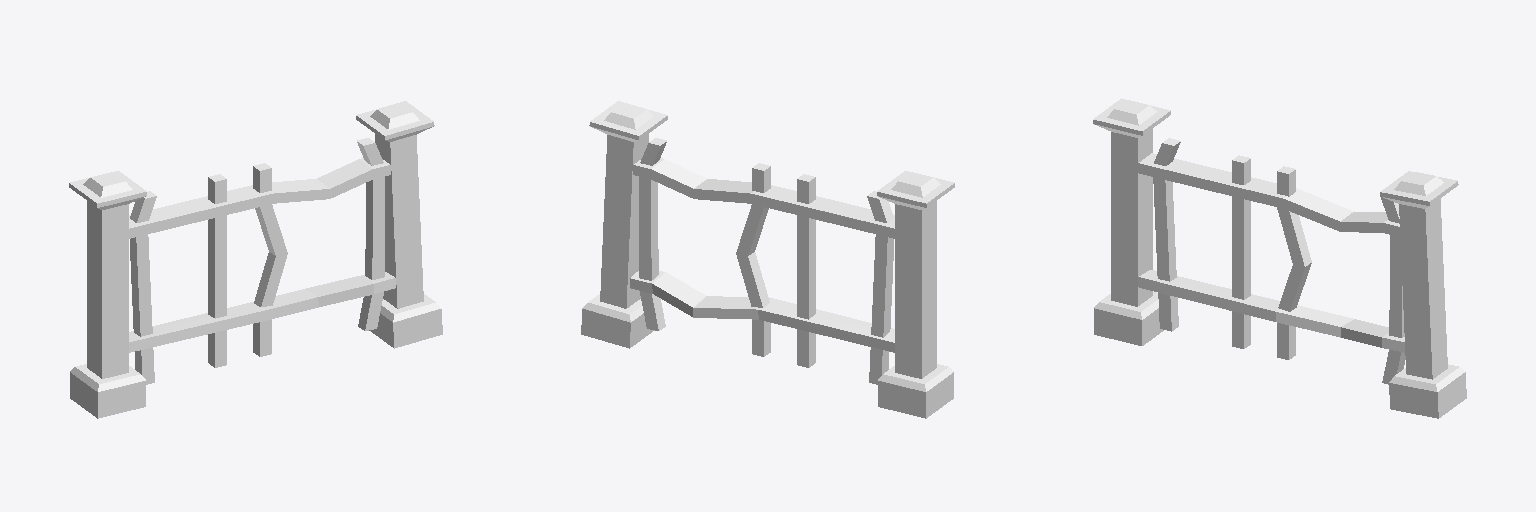
Rendered from Fence_Cemetery2.obj.
3 renders of one model, left to right at view 1: azimuth 30°, elevation 25°; view 2: azimuth 150°, elevation 25°; view 3: azimuth 330°, elevation 25°, orthographic.
Visible parts, largest first — view 1: Fence_Cmentary_02; view 2: Fence_Cmentary_02; view 3: Fence_Cmentary_02.
Boxes of the visible parts, x1=… form: Fence_Cmentary_02: x1=69, y1=101, x2=442, y2=418; Fence_Cmentary_02: x1=581, y1=101, x2=954, y2=418; Fence_Cmentary_02: x1=1093, y1=98, x2=1466, y2=418.
Bounding box in the file's own units: 29.85 × 18.6 × 4.29.